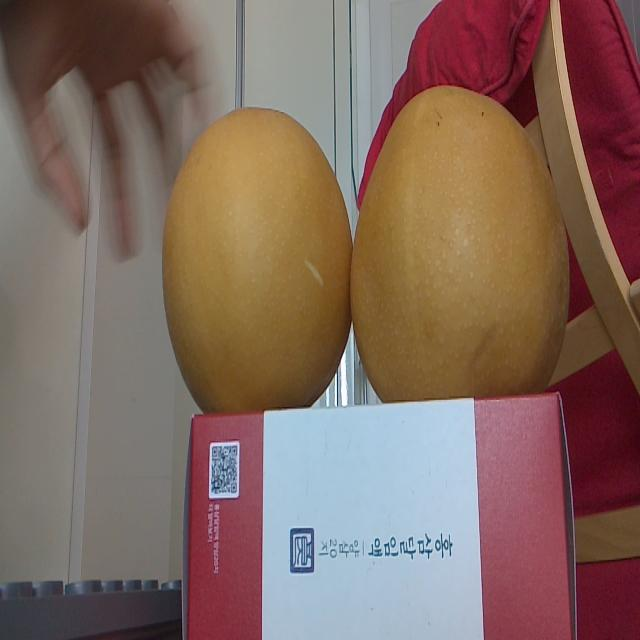pear: (349, 86, 570, 394), (163, 106, 353, 412)
